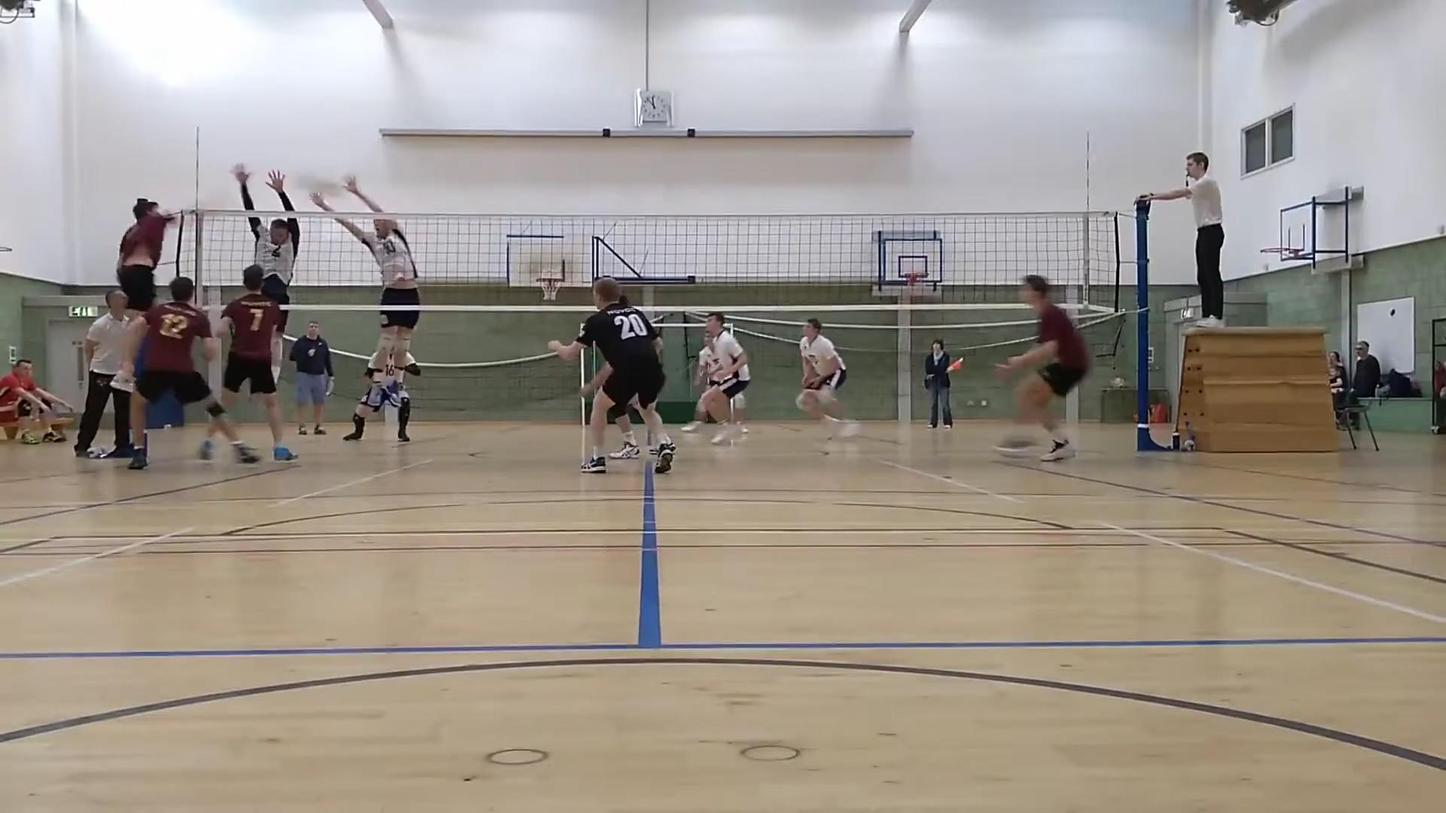Attack: (106, 185, 179, 389)
Block: (309, 161, 431, 392), (220, 149, 302, 309)
Player: (123, 276, 259, 469), (548, 278, 675, 473), (996, 275, 1090, 461), (220, 264, 297, 461), (796, 319, 859, 436), (701, 313, 750, 443), (343, 367, 410, 442), (607, 404, 642, 459), (607, 404, 641, 459)
